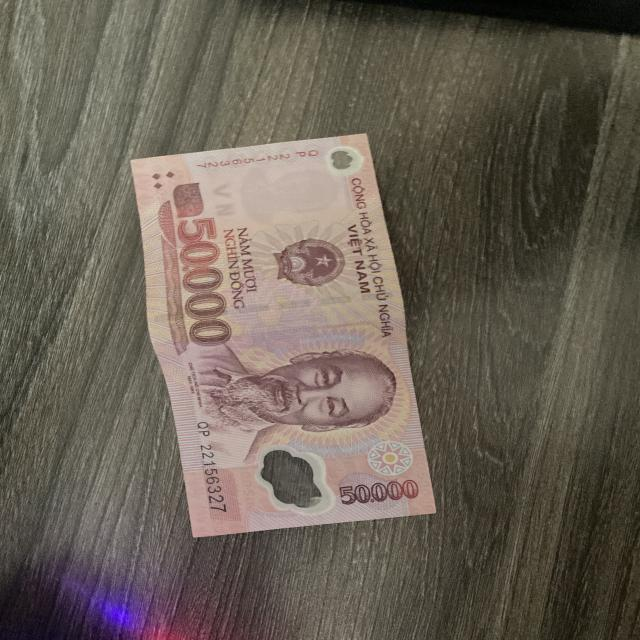50 000 VND: (130, 132, 438, 540)
